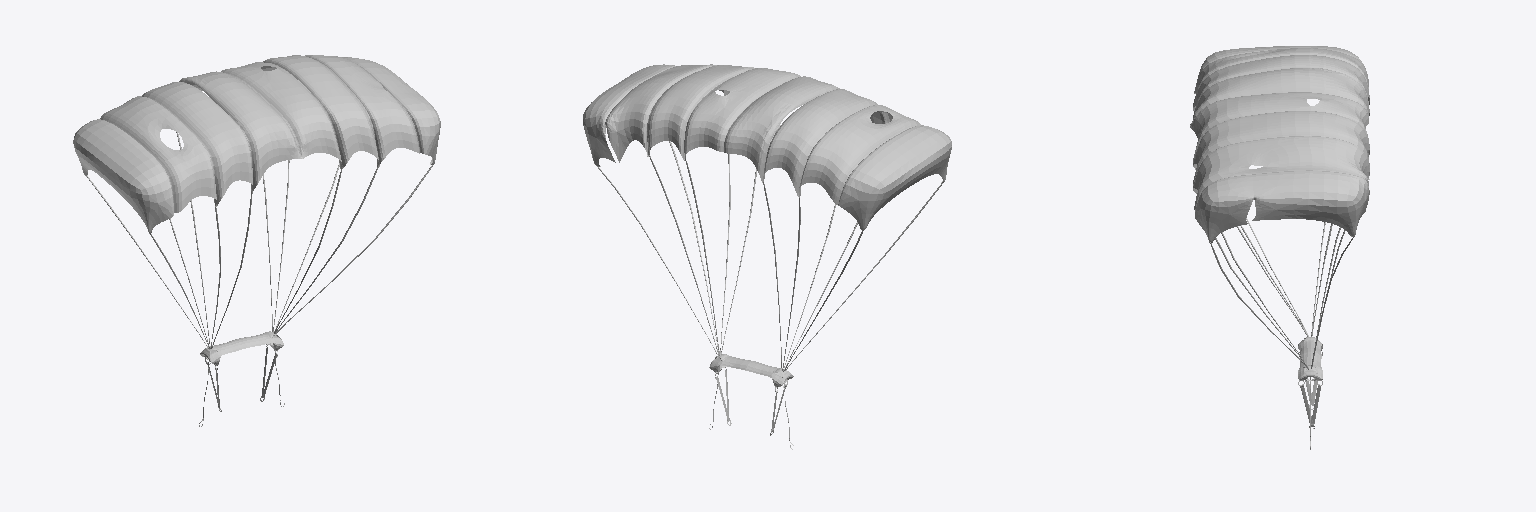
Rendered from parachute.obj.
3 views of the same model, side by side, from view 1: azimuth 30°, elevation 25°; view 2: azimuth 150°, elevation 25°; view 3: azimuth 270°, elevation 25° (orthographic).
Visible parts, largest first — view 1: parachute; view 2: parachute; view 3: parachute.
Part boxes in pixels (bbox=[...]): parachute: bbox=[73, 55, 440, 426]; parachute: bbox=[583, 64, 951, 449]; parachute: bbox=[1190, 46, 1369, 449].
Bounding box in the file's own units: 16.12 × 17.09 × 8.11.